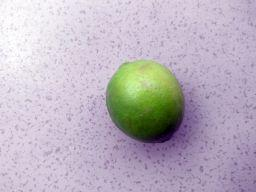lemon: (95, 47, 196, 154)
